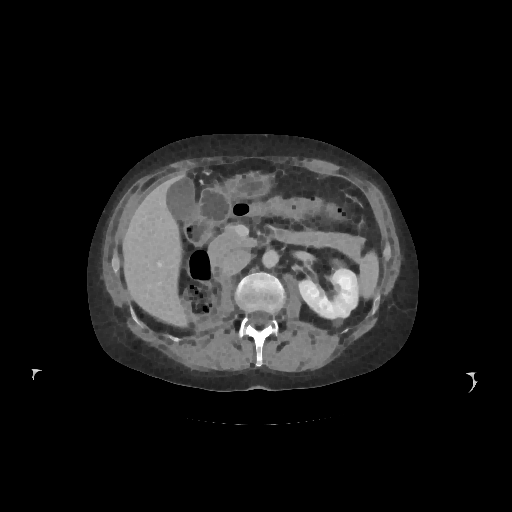Lesion: (331, 315, 348, 328)
